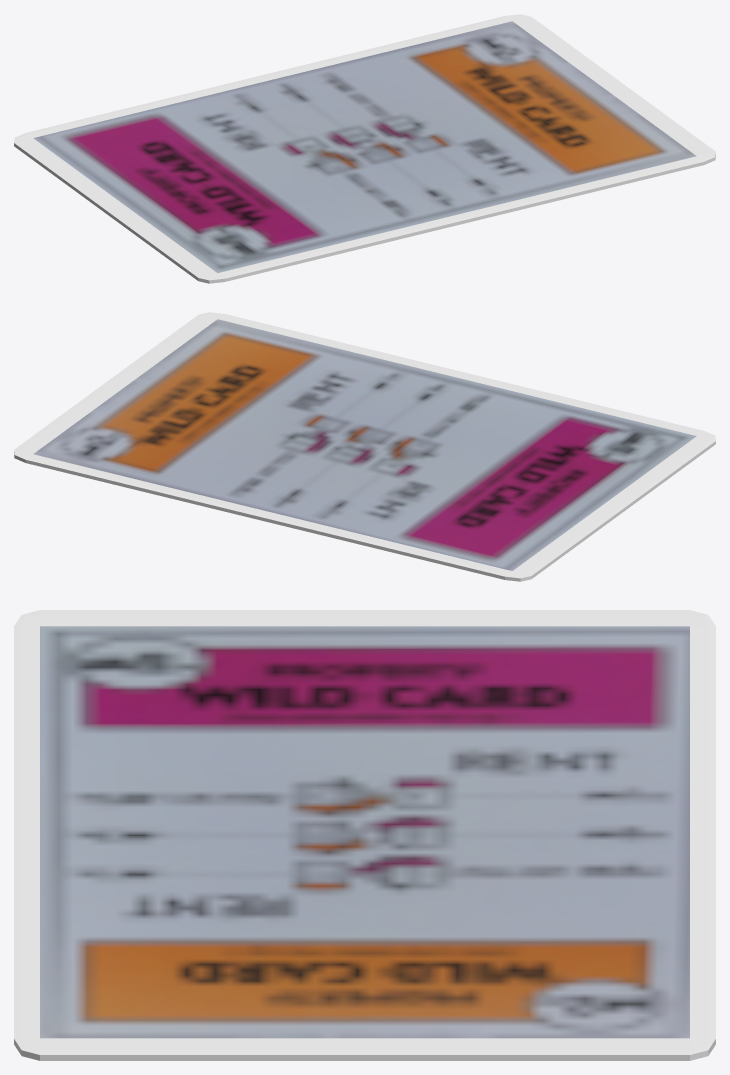
The model's file is orangepinkwild.glb.
3 views of the same model, one above another, from view 1: azimuth 30°, elevation 25°; view 2: azimuth 150°, elevation 25°; view 3: azimuth 270°, elevation 25° (orthographic). The views are drawn at different scales.
Visible parts, largest first — view 1: Cube; view 2: Cube; view 3: Cube.
Part boxes in pixels (x1,y1,x2,y2): Cube: (14,14,715,283); Cube: (14,312,715,581); Cube: (14,610,715,1060).
Size of the model in its own units: 0.6 by 0.004 by 0.4.
3 materials, 2 textured.
